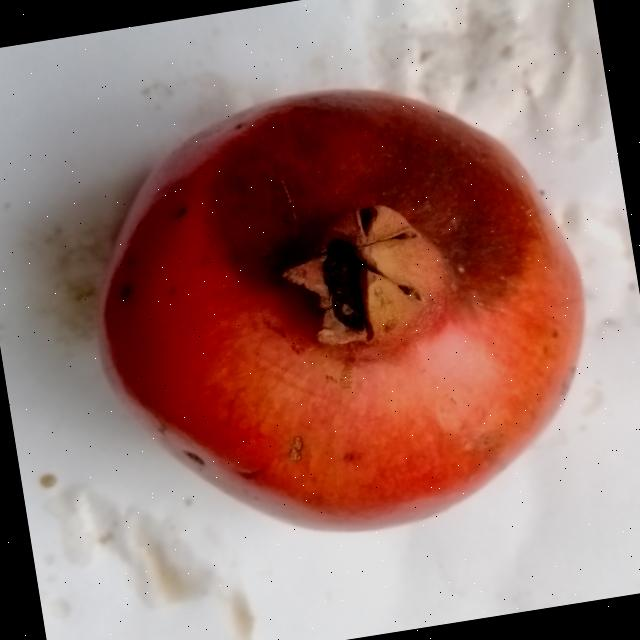Rotten: (65, 47, 622, 574)
